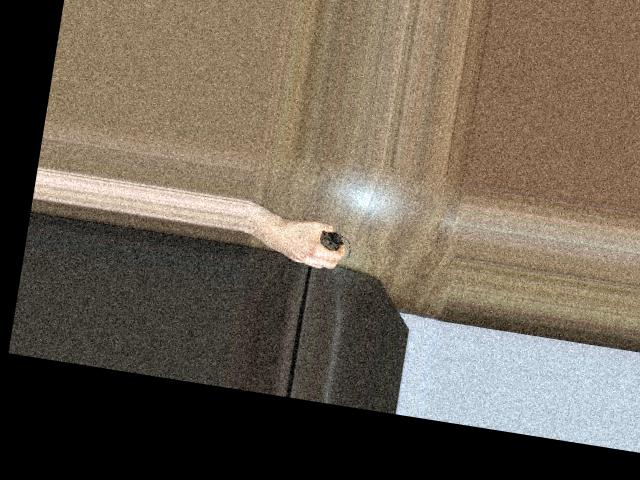beet: (318, 230, 354, 258)
